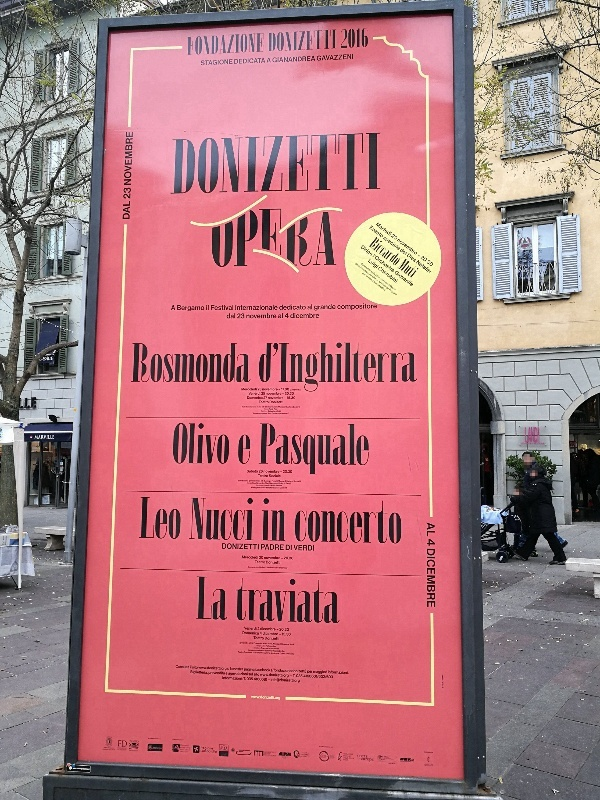text: (177, 132, 192, 196), (193, 132, 208, 196), (209, 132, 224, 196), (225, 132, 240, 196), (241, 132, 256, 196), (257, 132, 272, 196), (273, 132, 288, 196), (289, 132, 304, 196), (305, 132, 320, 196), (321, 132, 336, 196), (337, 132, 352, 196), (353, 132, 368, 196), (321, 207, 337, 266), (225, 207, 240, 266), (241, 207, 256, 266), (257, 207, 272, 266), (273, 207, 288, 266), (289, 207, 304, 266), (305, 207, 320, 266), (353, 423, 369, 476), (273, 341, 288, 394), (289, 341, 304, 394), (305, 341, 320, 394), (321, 341, 336, 394), (337, 341, 352, 394), (353, 341, 368, 394), (369, 341, 384, 394), (385, 341, 400, 394), (401, 341, 416, 394), (273, 423, 288, 476), (289, 423, 304, 476), (305, 423, 320, 476), (321, 423, 336, 476), (337, 423, 352, 476), (369, 132, 381, 196), (241, 577, 256, 624), (257, 577, 272, 624), (273, 577, 288, 624), (289, 577, 304, 624), (305, 577, 320, 624), (321, 577, 336, 624), (209, 577, 224, 621), (213, 207, 224, 266), (305, 501, 320, 544), (321, 501, 336, 544), (337, 501, 352, 544), (353, 501, 368, 544), (369, 501, 384, 544), (385, 501, 400, 544), (260, 341, 272, 394), (260, 423, 272, 476), (145, 497, 160, 539), (161, 497, 176, 539), (193, 498, 208, 540), (209, 498, 224, 540), (225, 498, 240, 540), (177, 423, 192, 464), (193, 423, 208, 464), (209, 423, 224, 464), (273, 498, 287, 541), (241, 498, 255, 540), (145, 344, 160, 383), (161, 344, 176, 383), (177, 344, 192, 383), (193, 344, 208, 383), (209, 344, 224, 383), (225, 344, 240, 383), (369, 263, 384, 296), (385, 237, 400, 267), (369, 262, 384, 292), (198, 577, 208, 621), (385, 263, 398, 296), (133, 344, 144, 383), (241, 344, 251, 383), (263, 498, 272, 541), (321, 30, 337, 53), (357, 263, 368, 296), (193, 33, 208, 56), (209, 33, 224, 56), (225, 33, 240, 56), (241, 33, 256, 56), (273, 30, 288, 53), (289, 30, 304, 53), (305, 30, 320, 53), (296, 501, 304, 544), (353, 27, 368, 49), (385, 262, 396, 292), (427, 549, 432, 608), (241, 435, 251, 464), (401, 237, 416, 256), (369, 273, 384, 292), (385, 266, 399, 284), (225, 423, 231, 464), (341, 27, 352, 49), (385, 237, 400, 252), (401, 270, 414, 287), (405, 259, 416, 279), (129, 132, 133, 185), (377, 237, 384, 267), (177, 497, 182, 539), (241, 642, 256, 655), (257, 642, 272, 655), (273, 642, 288, 655), (173, 132, 176, 196), (419, 260, 432, 274), (385, 255, 395, 273), (362, 262, 368, 292), (433, 549, 436, 608), (529, 427, 540, 443), (375, 255, 384, 273), (257, 33, 264, 56), (372, 226, 384, 239), (371, 259, 384, 270), (237, 577, 240, 624), (337, 577, 340, 624), (257, 406, 272, 415), (273, 406, 288, 415), (241, 480, 256, 489), (257, 480, 272, 489), (273, 480, 288, 489), (225, 577, 228, 621), (242, 406, 256, 415), (141, 497, 144, 539), (338, 752, 352, 761), (353, 303, 368, 311), (321, 304, 336, 312), (3, 536, 16, 545), (337, 54, 353, 61), (338, 303, 352, 311), (180, 745, 192, 754), (289, 406, 301, 415), (289, 480, 301, 489), (126, 132, 128, 185), (417, 341, 419, 394), (209, 59, 224, 66), (273, 56, 288, 63), (289, 56, 304, 63), (321, 54, 336, 61), (289, 304, 304, 311), (257, 312, 272, 319), (241, 304, 256, 311), (257, 304, 272, 311), (423, 256, 432, 267), (385, 222, 392, 236), (305, 312, 319, 319), (178, 305, 192, 312), (188, 33, 192, 56), (403, 249, 416, 256), (291, 312, 304, 319), (211, 304, 224, 311), (241, 58, 256, 64), (225, 544, 240, 550), (241, 544, 256, 550), (378, 222, 384, 236), (193, 305, 205, 312), (442, 675, 448, 689), (118, 740, 128, 748), (227, 313, 240, 319), (289, 642, 295, 655), (305, 56, 316, 63), (273, 544, 284, 551), (364, 273, 368, 292), (427, 523, 432, 538), (193, 671, 208, 676), (209, 671, 224, 676), (225, 676, 240, 681), (273, 669, 288, 674), (289, 669, 304, 674), (257, 696, 272, 701), (124, 201, 128, 219), (308, 304, 320, 310), (344, 753, 352, 762), (262, 544, 272, 551), (269, 30, 272, 53), (293, 545, 304, 551), (363, 245, 368, 258), (369, 303, 377, 311), (273, 674, 289, 678), (247, 312, 256, 319), (225, 304, 234, 311), (410, 253, 416, 263), (401, 237, 403, 267), (278, 313, 288, 319), (337, 670, 349, 675), (209, 667, 224, 671), (225, 59, 233, 66), (280, 304, 288, 311), (130, 740, 144, 744), (258, 627, 272, 631), (257, 668, 271, 672), (257, 58, 266, 64), (381, 266, 384, 284), (305, 545, 314, 551), (369, 245, 373, 258), (243, 556, 256, 560), (259, 556, 272, 560), (243, 631, 256, 635), (177, 665, 190, 669), (397, 270, 400, 287), (257, 677, 267, 682), (201, 59, 208, 66), (314, 304, 320, 312), (264, 751, 272, 757), (525, 427, 528, 443), (244, 677, 256, 681), (305, 674, 317, 678), (260, 674, 272, 678), (247, 469, 256, 474), (257, 566, 272, 569), (273, 566, 288, 569), (193, 666, 208, 669), (247, 677, 256, 682), (124, 188, 128, 199), (117, 747, 128, 751), (261, 627, 272, 631), (245, 668, 256, 672), (277, 678, 288, 682), (293, 674, 304, 678), (401, 501, 402, 544), (242, 388, 256, 391), (258, 388, 272, 391), (258, 474, 272, 477), (191, 498, 192, 540), (385, 756, 392, 762), (226, 673, 240, 676), (175, 423, 176, 464), (417, 259, 419, 279), (241, 749, 251, 753), (358, 755, 368, 759), (328, 670, 336, 675), (273, 696, 281, 701), (291, 389, 304, 392), (259, 401, 272, 404), (259, 470, 272, 473), (321, 746, 334, 749), (35, 436, 48, 439), (129, 201, 131, 219), (394, 234, 400, 240), (148, 738, 160, 741), (260, 632, 272, 635), (263, 632, 272, 636), (228, 668, 240, 671), (231, 667, 240, 671), (308, 671, 320, 674), (199, 667, 208, 671), (273, 304, 278, 311), (361, 758, 368, 763), (427, 539, 432, 546), (273, 397, 284, 400), (273, 401, 284, 404), (245, 627, 256, 630), (389, 762, 400, 765), (229, 673, 240, 676), (104, 747, 112, 751), (273, 474, 281, 478), (264, 556, 272, 560), (273, 556, 281, 560), (273, 561, 281, 565), (529, 443, 545, 445), (235, 58, 240, 64), (129, 750, 144, 752), (262, 392, 272, 395), (433, 523, 435, 538), (239, 435, 240, 464), (418, 255, 432, 257), (273, 312, 277, 319), (236, 304, 240, 311), (257, 636, 264, 640), (201, 747, 208, 751), (313, 671, 320, 675), (297, 674, 304, 678), (263, 388, 272, 391), (273, 392, 282, 395), (257, 561, 266, 564), (295, 680, 304, 683), (327, 676, 336, 679), (305, 753, 310, 758), (369, 758, 374, 763), (43, 357, 48, 362), (251, 696, 256, 701), (154, 747, 160, 751), (282, 388, 288, 392), (264, 397, 272, 400), (248, 396, 256, 399), (264, 470, 272, 473), (248, 566, 256, 569), (280, 628, 288, 631), (282, 632, 288, 636), (209, 750, 217, 753), (330, 755, 336, 759), (234, 667, 240, 671), (321, 671, 327, 675), (129, 188, 131, 199), (317, 54, 320, 61), (177, 739, 184, 742), (249, 392, 256, 395), (273, 470, 280, 473), (265, 637, 272, 640), (273, 637, 280, 640), (201, 750, 208, 753), (425, 764, 432, 767), (241, 673, 248, 676), (249, 673, 256, 676), (289, 392, 294, 396), (283, 470, 288, 474), (267, 561, 272, 565), (273, 632, 278, 636), (300, 753, 304, 758), (49, 357, 53, 362), (326, 676, 336, 678), (399, 237, 400, 256), (417, 237, 418, 256), (385, 273, 386, 292), (269, 57, 272, 63), (173, 305, 176, 311), (273, 751, 276, 757), (279, 389, 288, 391), (266, 392, 272, 395), (257, 396, 263, 399), (238, 480, 240, 489), (289, 545, 292, 551), (282, 756, 288, 759), (353, 753, 355, 762), (381, 756, 384, 762), (49, 436, 55, 439), (209, 747, 213, 751), (424, 752, 432, 754), (273, 678, 277, 682), (273, 388, 278, 391), (289, 557, 294, 560), (289, 397, 296, 399), (281, 471, 288, 473), (433, 539, 435, 546), (291, 676, 304, 677), (206, 305, 208, 311), (221, 747, 224, 751), (225, 747, 228, 751), (285, 392, 288, 396), (257, 392, 261, 395), (269, 474, 272, 478), (289, 470, 292, 474), (257, 544, 259, 550), (286, 545, 288, 551), (282, 558, 288, 560), (284, 557, 288, 560), (273, 627, 276, 631), (412, 759, 416, 762), (522, 443, 528, 445), (241, 667, 244, 671), (321, 675, 325, 678), (433, 256, 434, 267), (277, 629, 288, 630), (241, 676, 243, 681), (305, 669, 307, 674), (173, 739, 176, 742), (269, 397, 272, 400), (285, 753, 288, 756), (257, 673, 260, 676), (113, 747, 115, 751), (257, 556, 259, 560), (280, 634, 288, 635), (289, 632, 291, 636), (257, 631, 259, 635), (254, 636, 256, 640), (225, 667, 227, 671), (305, 304, 306, 311), (282, 394, 288, 395), (270, 401, 272, 404), (223, 544, 224, 550), (289, 753, 291, 756), (190, 666, 192, 669), (254, 673, 256, 676), (318, 675, 320, 678), (257, 469, 258, 474), (191, 671, 192, 676), (223, 676, 224, 681), (271, 669, 272, 674), (161, 747, 162, 751), (239, 749, 240, 753), (271, 678, 272, 682), (268, 680, 272, 681), (161, 738, 162, 741), (285, 398, 288, 399), (255, 561, 256, 564), (319, 675, 320, 678)
